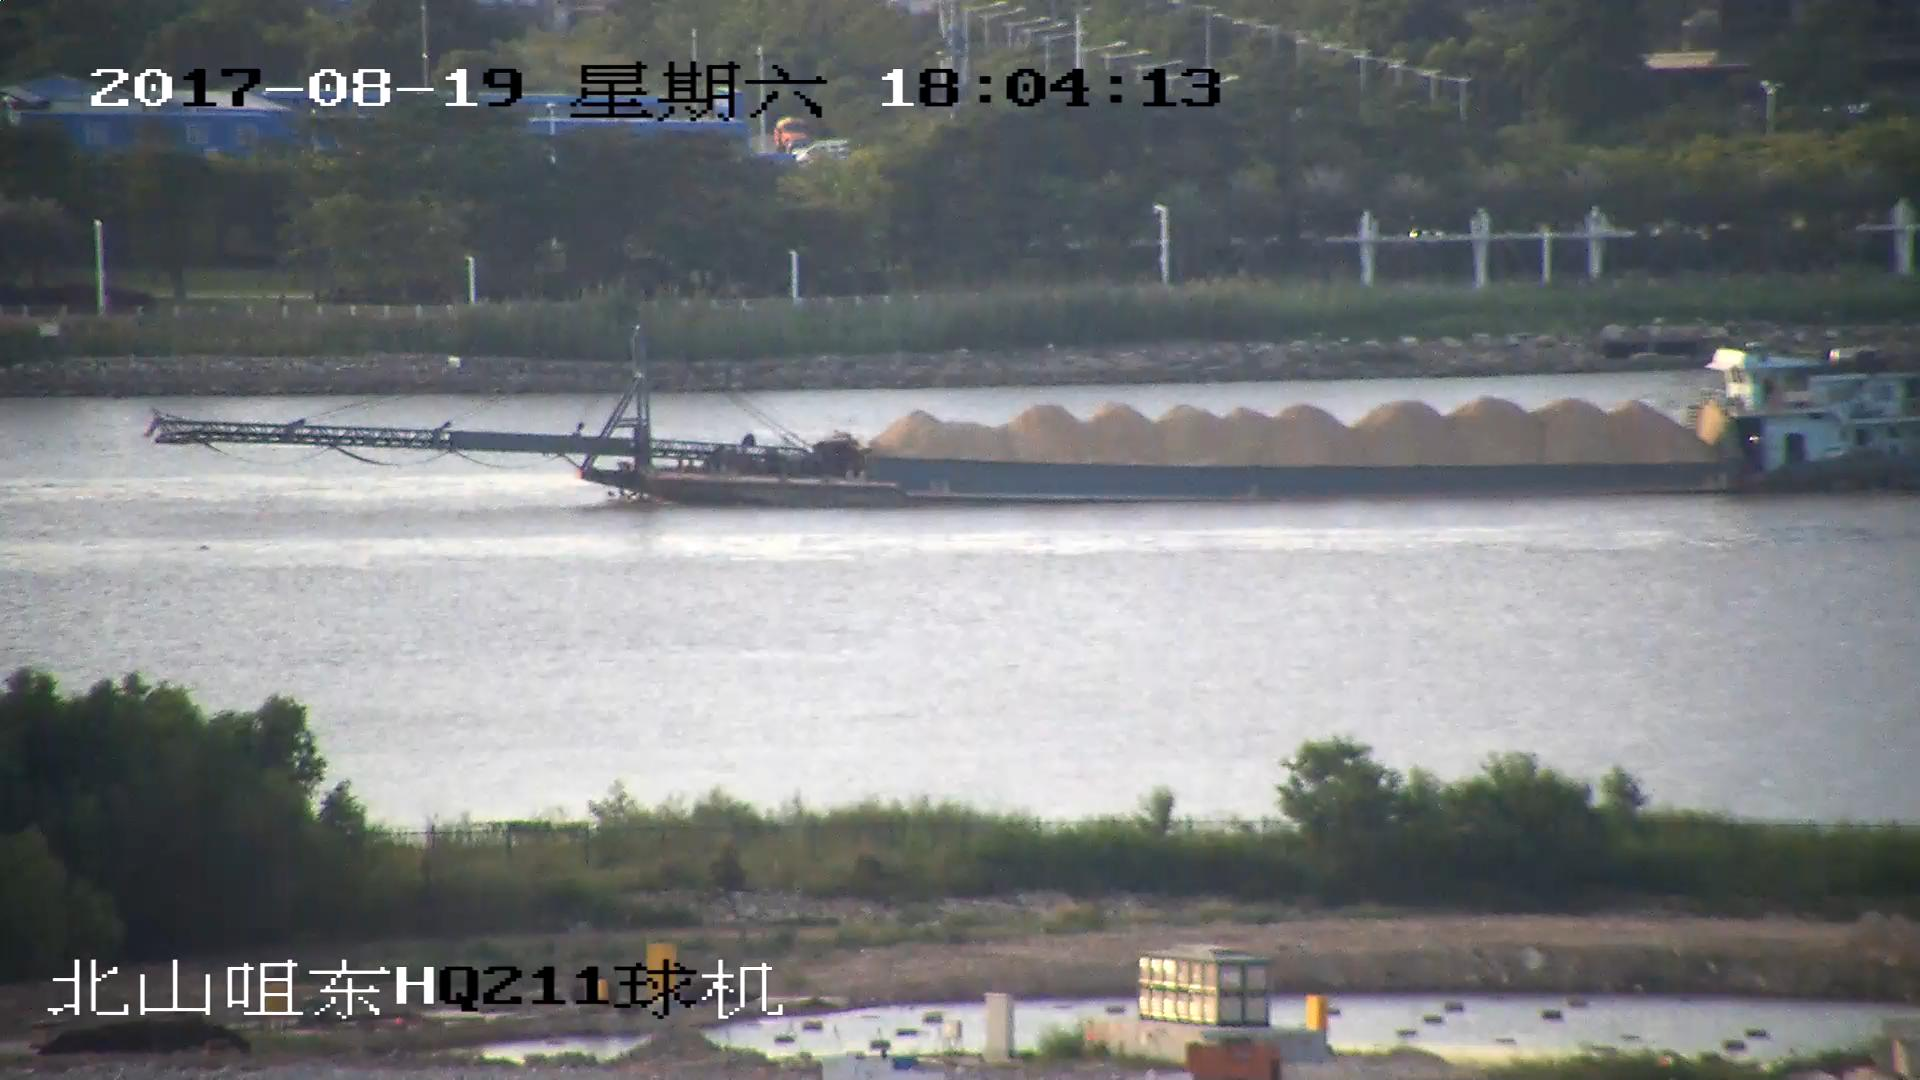ore carrier: (152, 331, 1920, 509)
